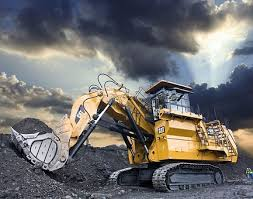bulldozer: (11, 76, 242, 192)
